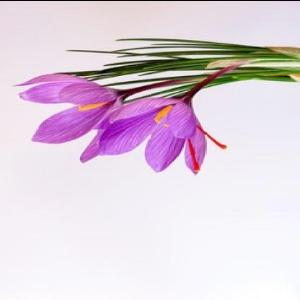Saffron: (12, 72, 128, 163), (100, 84, 210, 176)
